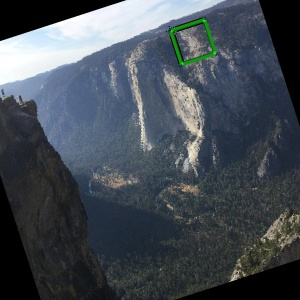square: (167, 15, 218, 66)
